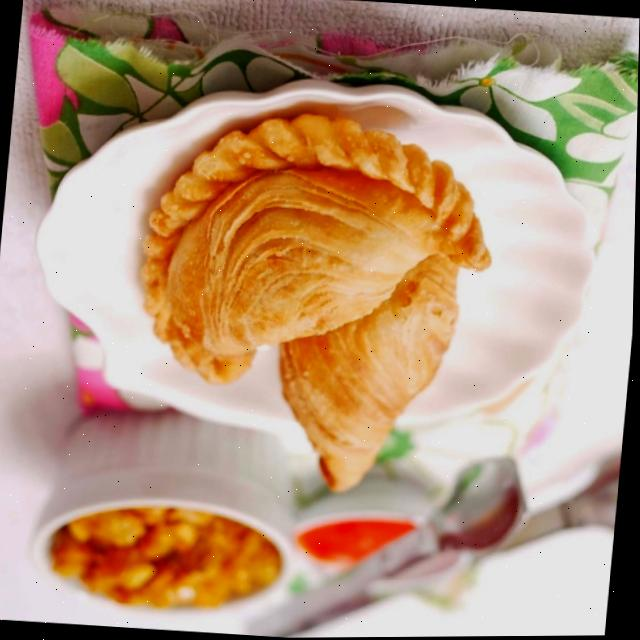炸货点心: (56, 61, 547, 515)
